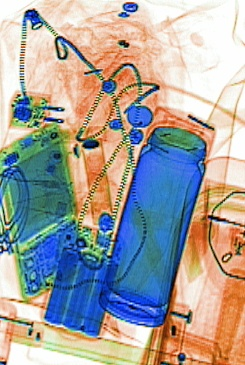powerbank: (42, 218, 130, 342)
